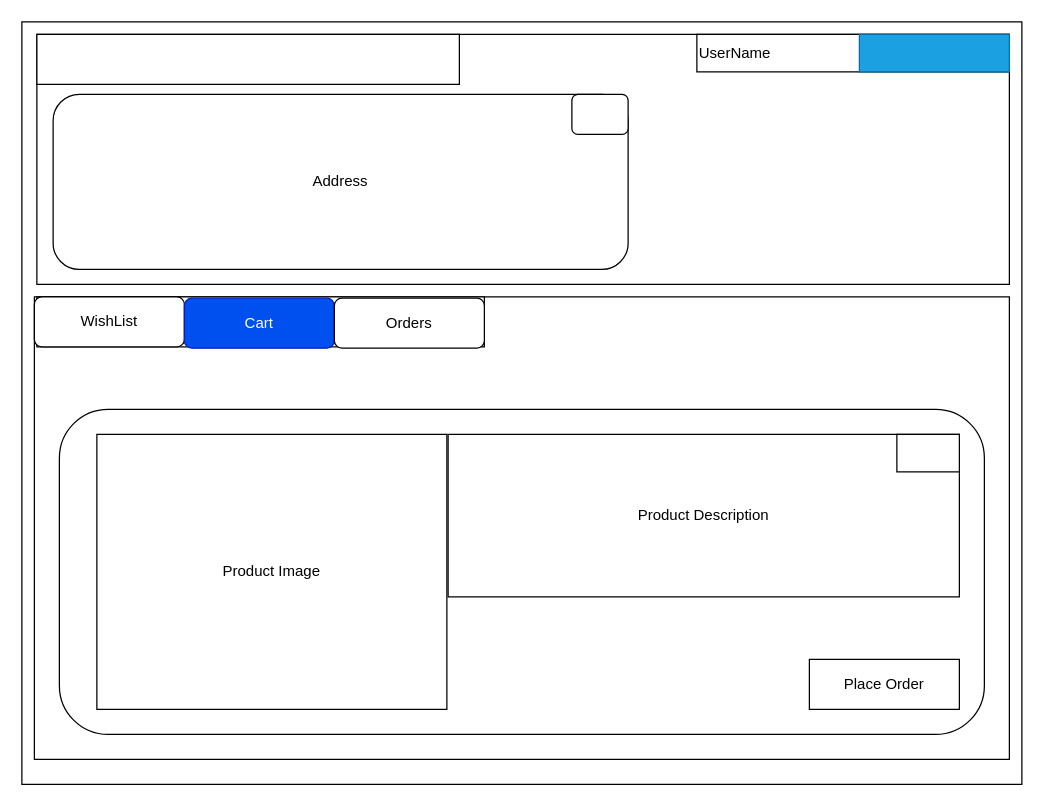
Image size: 1044x806. Some labels were removed from this diagram. The centre of each missing label's shape, as x and y in pixels:
"edit" belongs at point 599,113.
"Logout" belongs at point 933,52.
"Profile Page" belongs at point 247,58.
"Remove" belongs at point 927,452.
